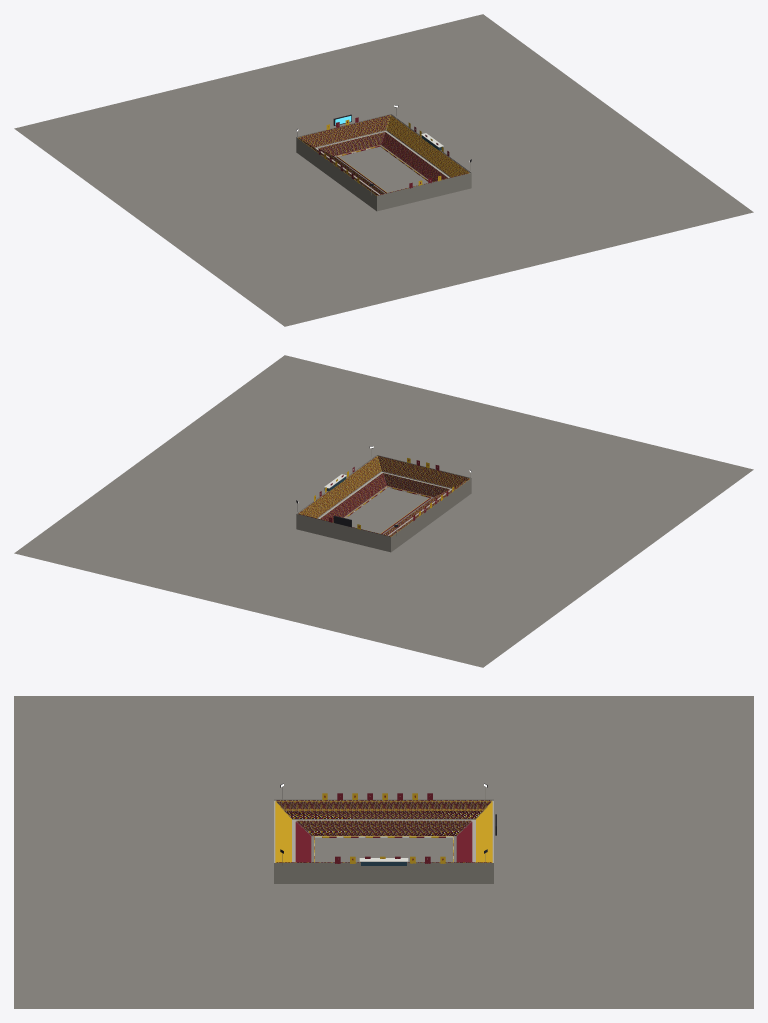
The model's file is college.glb.
3 renders of one model, top to bottom at view 1: azimuth 30°, elevation 25°; view 2: azimuth 150°, elevation 25°; view 3: azimuth 270°, elevation 25°, orthographic. The views are drawn at different scales.
Parts seen in each view (by area): view 1: college; view 2: college; view 3: college.
Part boxes in pixels (x1,y1,x2,y2): college: (14,14,753,326); college: (14,355,753,667); college: (14,696,753,1008).
Size of the model in its own units: 640 by 33.62 by 640.
12 materials, 1 textured.
